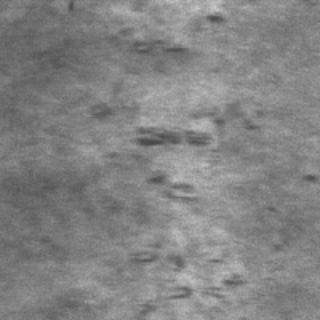rolled pit: (130, 122, 246, 314), (113, 12, 220, 56)
